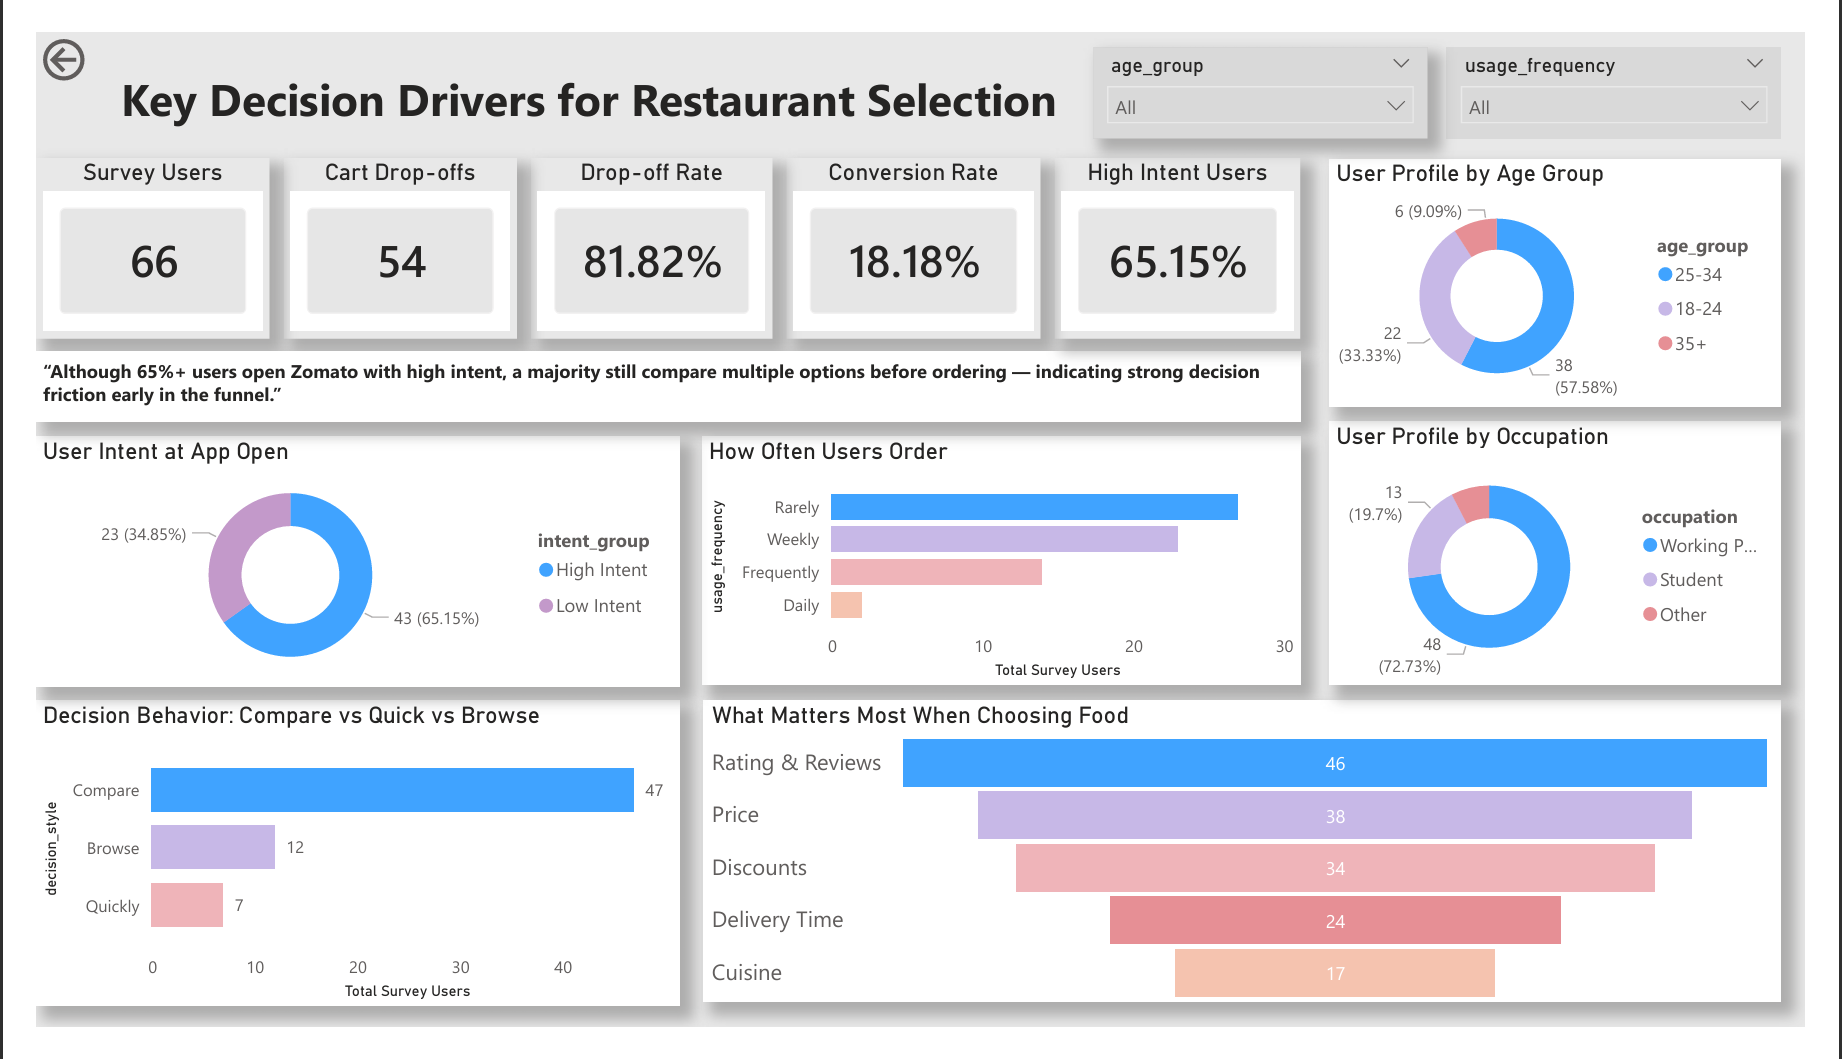

This screenshot's page, from the dashboard's own definition file:
{"tool":"powerbi","page":{"name":"User Behavior & Intent Analysis","canvas":[1280,720],"ordinal":0},"visuals":[{"type":"actionButton","box":[0,0,100,40],"z":0},{"type":"cardVisual","title":"Survey Users","fields":{"Data":["KPI_Measures.Total Survey Users"]},"box":[0,91,168.7,131.3],"z":1000},{"type":"cardVisual","title":"Cart Drop-offs","fields":{"Data":["KPI_Measures.Abandoned Users"]},"box":[179.1,91,168.7,131.3],"z":2000},{"type":"cardVisual","title":"Drop-off Rate","fields":{"Data":["KPI_Measures.Cart Abandonment Rate"]},"box":[358.2,91,174.6,131.3],"z":3000},{"type":"cardVisual","title":"Conversion Rate","fields":{"Data":["KPI_Measures.Conversion Rate"]},"box":[543.3,91,183.6,131.3],"z":4000},{"type":"barChart","title":"Decision Behavior: Compare vs Quick vs Browse","fields":{"Category":["Survey_Data.decision_style"],"Y":["KPI_Measures.Total Survey Users"]},"box":[0,483.8,465.7,220.8],"z":6000},{"type":"barChart","title":"How Often Users Order","fields":{"Category":["Survey_Data.usage_frequency"],"Y":["KPI_Measures.Total Survey Users"]},"box":[482.1,292.5,432.8,180.6],"z":7000},{"type":"funnel","title":"What Matters Most When Choosing Food","fields":{"Y":["KPI_Measures.Ratings Factor","KPI_Measures.Price Factor","KPI_Measures.Discounts Factor","KPI_Measures.Delivery Time Factor","KPI_Measures.Cuisine Factor"]},"box":[482.6,483.8,780.6,218.4],"z":8000},{"type":"donutChart","title":"User Profile by Occupation","fields":{"Category":["Survey_Data.occupation"],"Y":["KPI_Measures.Total Survey Users"]},"box":[935.8,282.1,326.9,191],"z":9000},{"type":"donutChart","title":"User Intent at App Open","fields":{"Category":["Survey_Data.intent_group"],"Y":["KPI_Measures.Total Survey Users"]},"box":[0,293.2,465.7,181],"z":9001},{"type":"donutChart","title":"User Profile by Age Group","fields":{"Category":["Survey_Data.age_group"],"Y":["KPI_Measures.Total Survey Users"]},"box":[936.2,91.7,326.9,179.8],"z":9002},{"type":"textbox","box":[0,231.3,914.9,50.7],"z":9003},{"type":"textbox","box":[49.5,20.5,703.4,88.1],"z":9004},{"type":"slicer","fields":{"Values":["Survey_Data.age_group"]},"box":[764.9,10.9,242.5,66.4],"z":9005},{"type":"slicer","fields":{"Values":["Survey_Data.usage_frequency"]},"box":[1020.6,10.9,242.5,66.4],"z":9006},{"type":"cardVisual","title":"High Intent Users","fields":{"Data":["KPI_Measures.High Intent Users %"]},"box":[737.3,91,177.6,131.3],"z":9007}]}

Visuals, with their boxes in screenshot pixels (x1, y1, x2, y2), scaled from the page's 1280x720 canvas onto the 1842x1059 screenshot:
actionButton: x1=0 y1=0 x2=144 y2=59
"Survey Users" cardVisual: x1=0 y1=134 x2=243 y2=327
"Cart Drop-offs" cardVisual: x1=258 y1=134 x2=501 y2=327
"Drop-off Rate" cardVisual: x1=515 y1=134 x2=767 y2=327
"Conversion Rate" cardVisual: x1=782 y1=134 x2=1046 y2=327
"Decision Behavior: Compare vs Quick vs Browse" barChart: x1=0 y1=712 x2=670 y2=1036
"How Often Users Order" barChart: x1=694 y1=430 x2=1317 y2=696
"What Matters Most When Choosing Food" funnel: x1=694 y1=712 x2=1818 y2=1033
"User Profile by Occupation" donutChart: x1=1347 y1=415 x2=1817 y2=696
"User Intent at App Open" donutChart: x1=0 y1=431 x2=670 y2=697
"User Profile by Age Group" donutChart: x1=1347 y1=135 x2=1818 y2=399
textbox: x1=0 y1=340 x2=1317 y2=415
textbox: x1=71 y1=30 x2=1083 y2=160
slicer - Survey_Data.age_group: x1=1101 y1=16 x2=1450 y2=114
slicer - Survey_Data.usage_frequency: x1=1469 y1=16 x2=1818 y2=114
"High Intent Users" cardVisual: x1=1061 y1=134 x2=1317 y2=327
